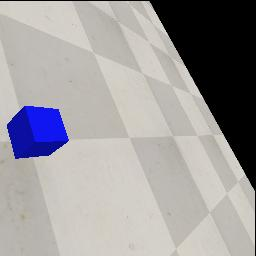box: (7, 106, 69, 159)
